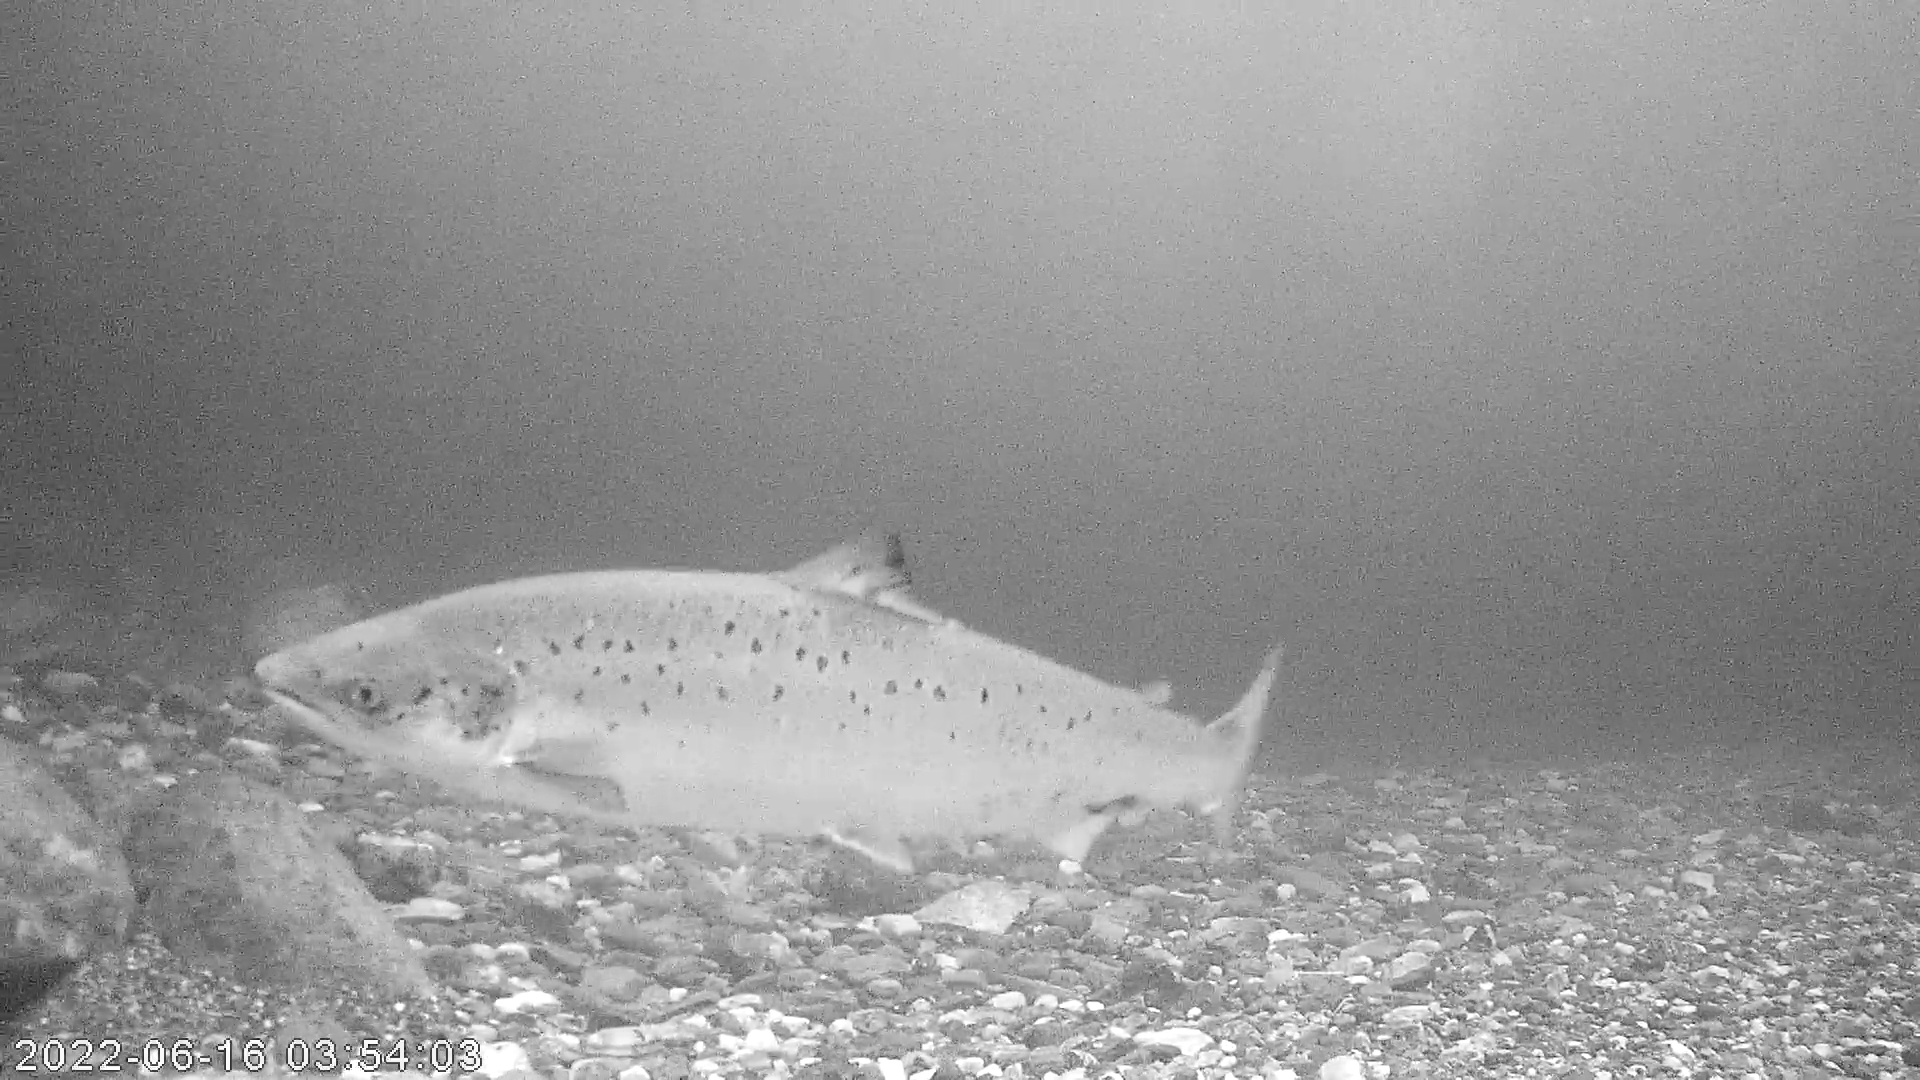salmon: (251, 527, 1284, 876)
